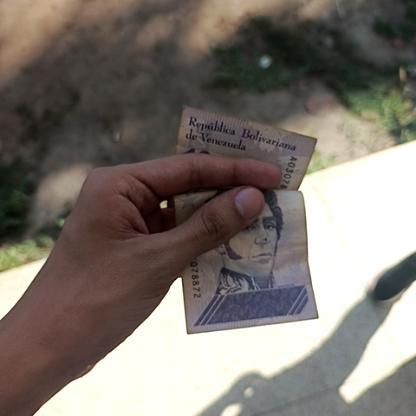ten-front-vef: (169, 104, 319, 334)
